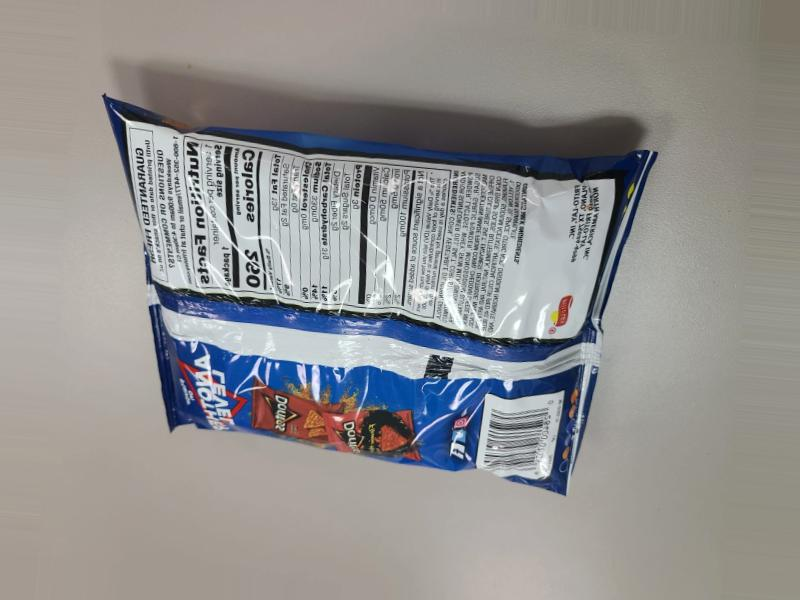doritos: (213, 132, 632, 492)
